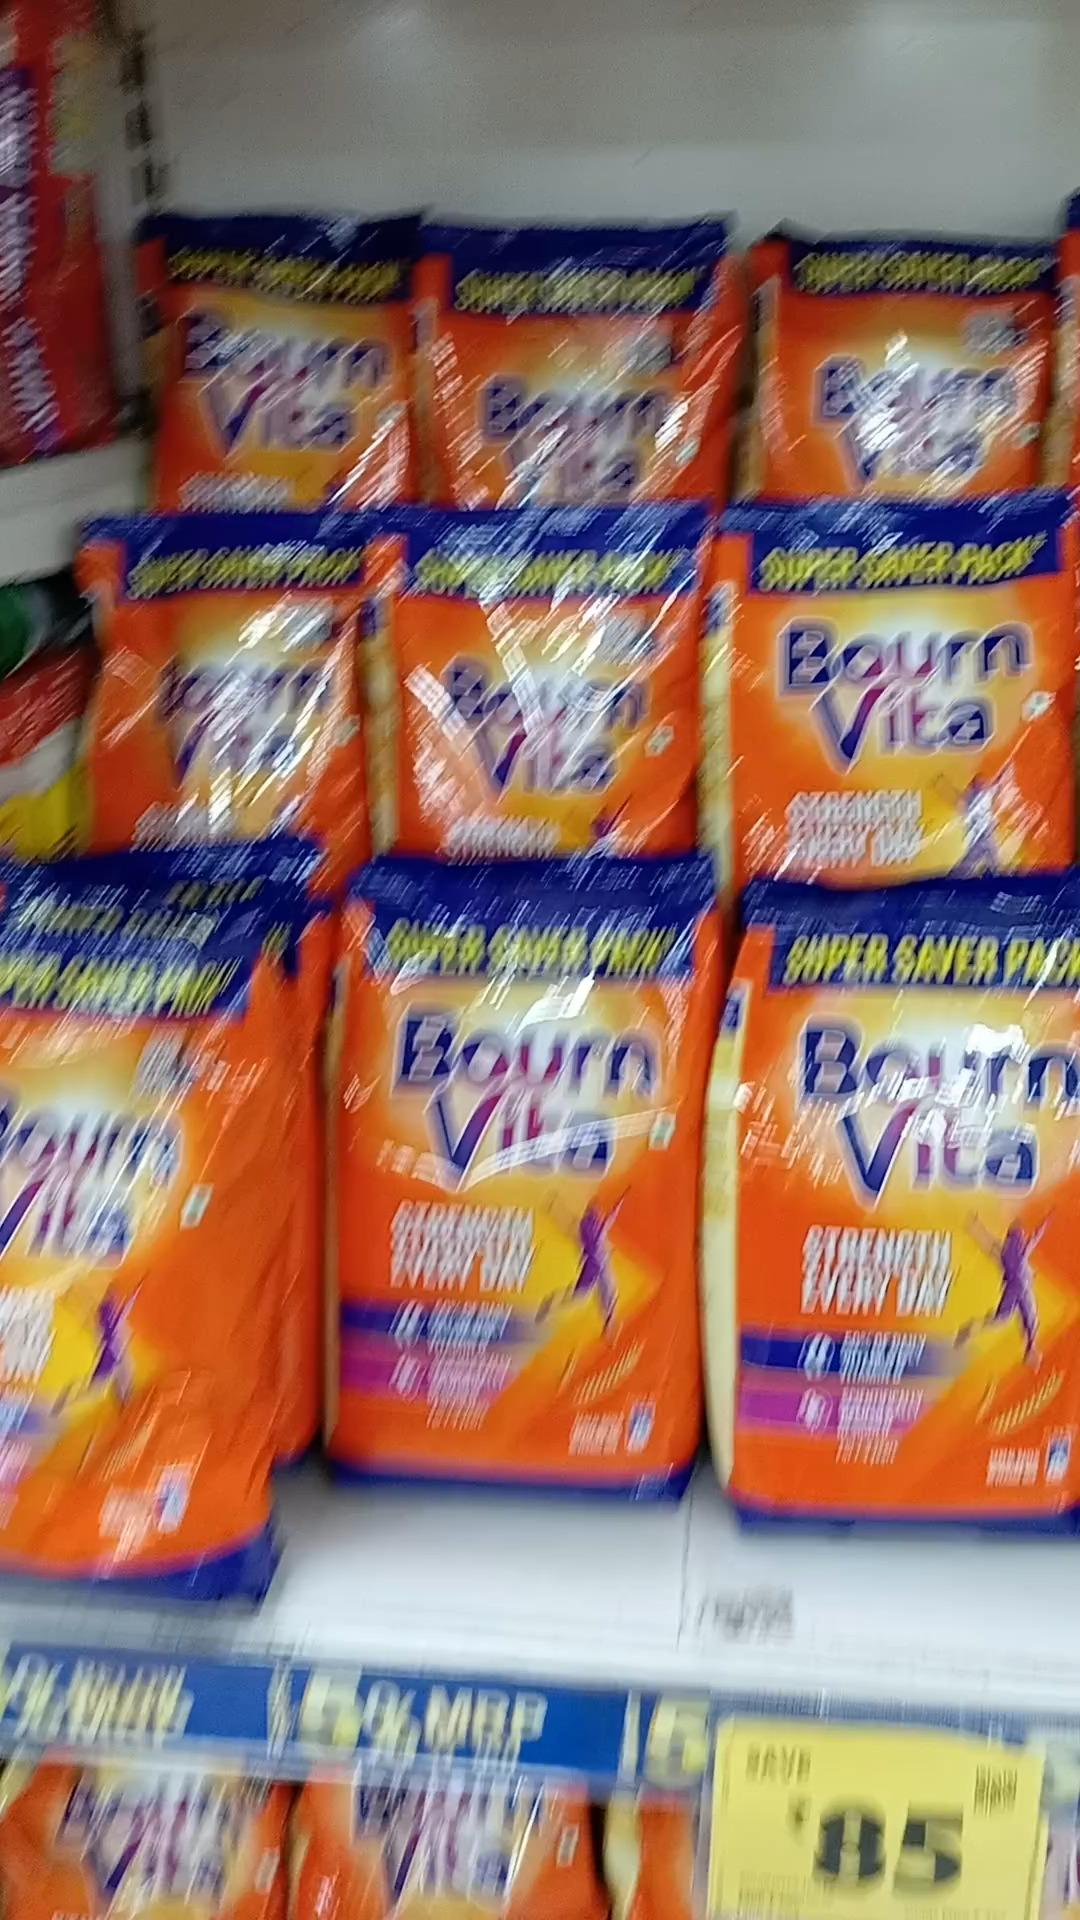BOURN_VITA_1_KG_POUCH: (712, 873, 1080, 1532), (316, 860, 687, 1472), (0, 923, 278, 1613), (715, 508, 1080, 856), (396, 516, 699, 840), (86, 513, 357, 822), (767, 215, 1054, 495), (422, 220, 719, 481), (161, 223, 404, 495)
